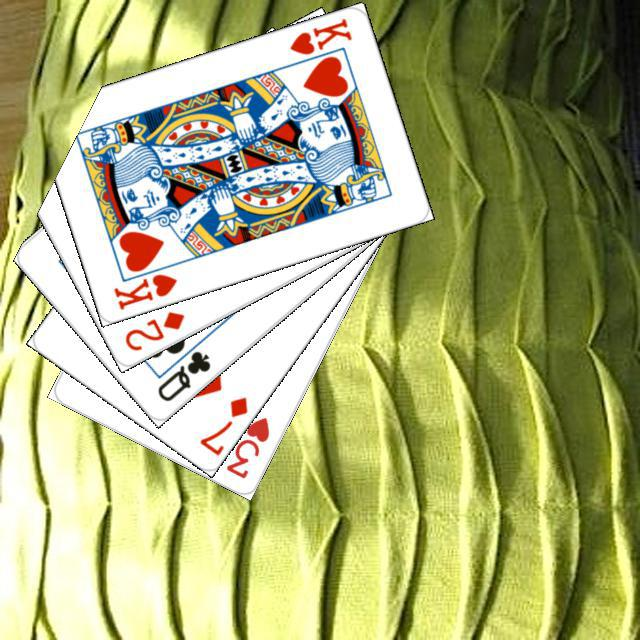2d: (119, 306, 187, 353)
3h: (221, 412, 272, 481)
7d: (194, 391, 250, 457)
Kh: (108, 257, 180, 312), (284, 13, 354, 57)
Qc: (150, 334, 213, 404)
